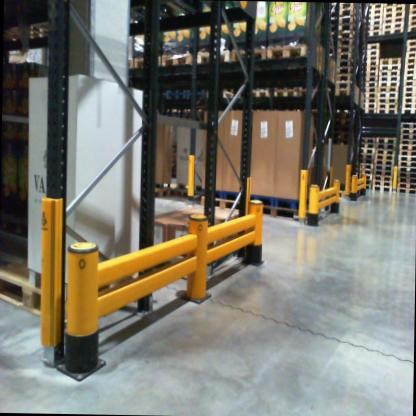pallet: (0, 263, 98, 334), (267, 34, 329, 77), (198, 191, 259, 228), (229, 44, 275, 73), (253, 198, 311, 221), (160, 45, 197, 71), (204, 82, 237, 108), (199, 43, 228, 71), (242, 82, 278, 104), (150, 181, 183, 202), (135, 48, 162, 72), (297, 89, 327, 103), (325, 21, 359, 32), (269, 87, 297, 100), (321, 36, 354, 47), (333, 78, 354, 92), (380, 19, 406, 30), (328, 7, 358, 16), (379, 55, 405, 65), (325, 15, 358, 22), (371, 179, 392, 190), (321, 31, 358, 37), (362, 43, 382, 54), (333, 59, 357, 68), (375, 134, 396, 144), (329, 2, 363, 8), (380, 27, 405, 35), (332, 88, 351, 98), (332, 73, 353, 82), (384, 9, 405, 18), (382, 16, 405, 24), (122, 58, 136, 71), (364, 13, 382, 23), (330, 66, 354, 73), (375, 108, 396, 116), (383, 4, 406, 11), (375, 147, 395, 155), (396, 177, 416, 185), (376, 97, 398, 104), (394, 190, 416, 197), (364, 23, 381, 32), (397, 161, 416, 169), (379, 70, 400, 77), (356, 156, 374, 164), (400, 119, 416, 128), (334, 52, 357, 58), (375, 103, 398, 109), (358, 146, 373, 155), (372, 185, 391, 192), (373, 169, 392, 176), (360, 106, 376, 114), (379, 64, 400, 70), (357, 137, 375, 144), (398, 126, 416, 133), (398, 132, 416, 139), (398, 155, 416, 162), (363, 8, 383, 14), (401, 106, 416, 114), (365, 20, 382, 27), (358, 142, 375, 149), (399, 144, 416, 151), (334, 46, 353, 52), (365, 3, 384, 9), (362, 54, 381, 60), (365, 30, 381, 37), (402, 95, 416, 103), (376, 92, 398, 97), (372, 155, 394, 160), (394, 185, 416, 190), (362, 65, 380, 71), (355, 153, 373, 159), (377, 87, 398, 92), (363, 69, 378, 76), (362, 87, 377, 94), (374, 143, 395, 148), (403, 56, 416, 64), (403, 62, 416, 70), (399, 139, 416, 145), (372, 176, 392, 181), (373, 164, 393, 169), (373, 159, 393, 164), (402, 89, 416, 96), (362, 97, 376, 104), (362, 76, 378, 82), (379, 77, 398, 82), (362, 60, 381, 65), (397, 168, 416, 173), (403, 68, 416, 75), (403, 73, 416, 80), (403, 85, 416, 92), (398, 151, 416, 156), (377, 83, 398, 87), (363, 82, 377, 88), (407, 37, 416, 46), (400, 103, 416, 108), (403, 79, 416, 85), (405, 50, 416, 57), (361, 163, 372, 170), (397, 173, 415, 177), (360, 167, 370, 174), (406, 47, 416, 53), (362, 94, 376, 98), (407, 26, 416, 32), (407, 8, 416, 14), (408, 20, 416, 26), (408, 14, 416, 20), (384, 4, 406, 6), (363, 173, 370, 179), (364, 185, 370, 192), (362, 104, 374, 107), (364, 181, 371, 186), (408, 5, 416, 8)
